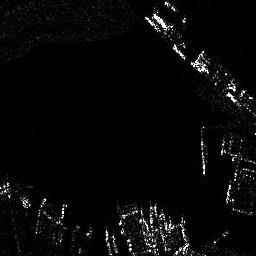ship: (198, 124, 211, 176)
